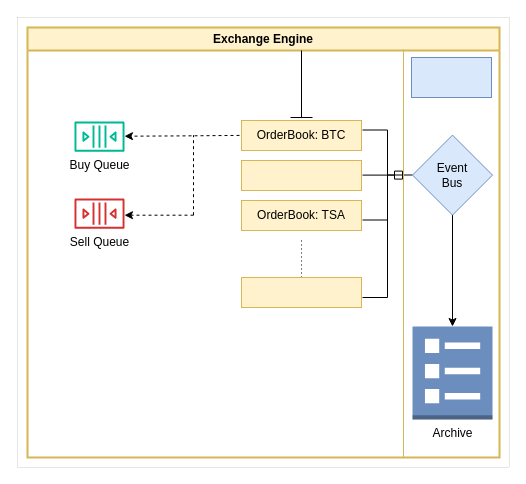
The diagram is 526 pixels wide and 484 high, and some of its shapes have lost their labels. The shapes that lost their labels are listed below. From the top down, each one's box as (x1, y1, x2, y2) in pixels, then its label:
(410, 56, 492, 98): ID Registry
(240, 160, 362, 190): OrderBook: AMZ
(240, 276, 362, 308): OrderBook: {ASSET}
